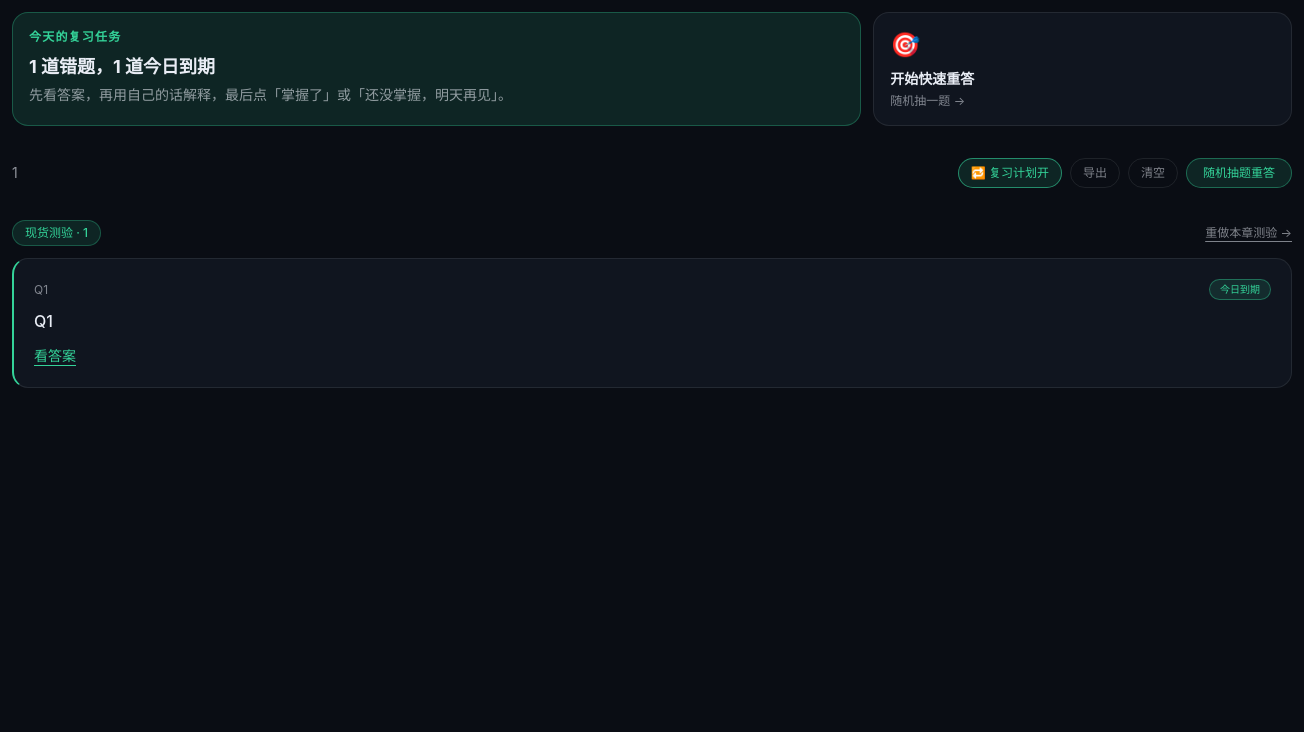
Test: ReviewClient 答案揭晓 › 揭晓后显示你的选择/正确答案/解析，可再次收起
The width and height of the screenshot is (1304, 732).
Click the button "看答案" at (55, 356), box [34,346,76,366]
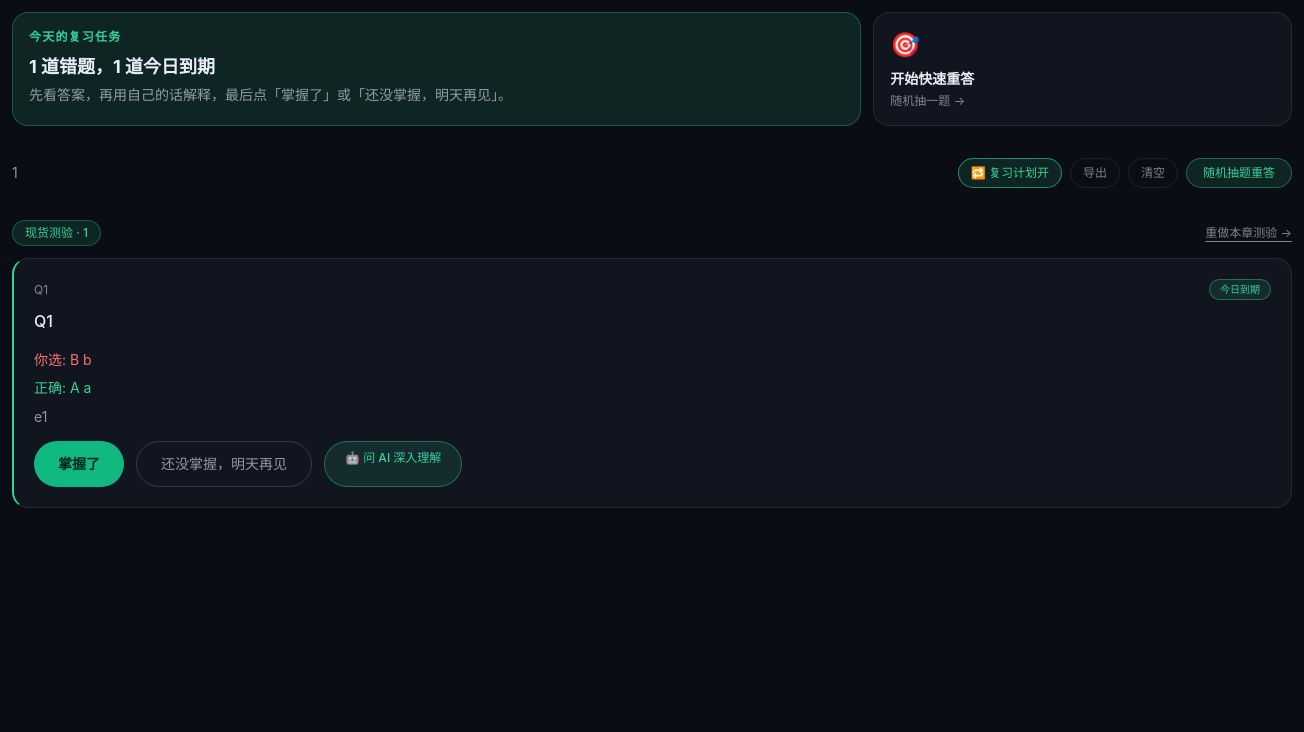
Expected: the text "你选: B b" is shown, [34,351,92,368]
Expected: the text "正确: A a" is shown, [34,379,92,396]
Expected: the text "e1" is shown, [34,408,47,425]
